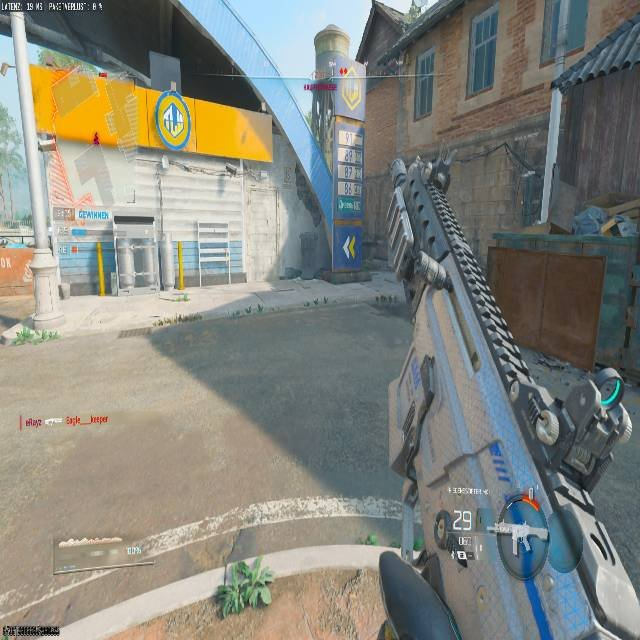player: (92, 132, 100, 146)
